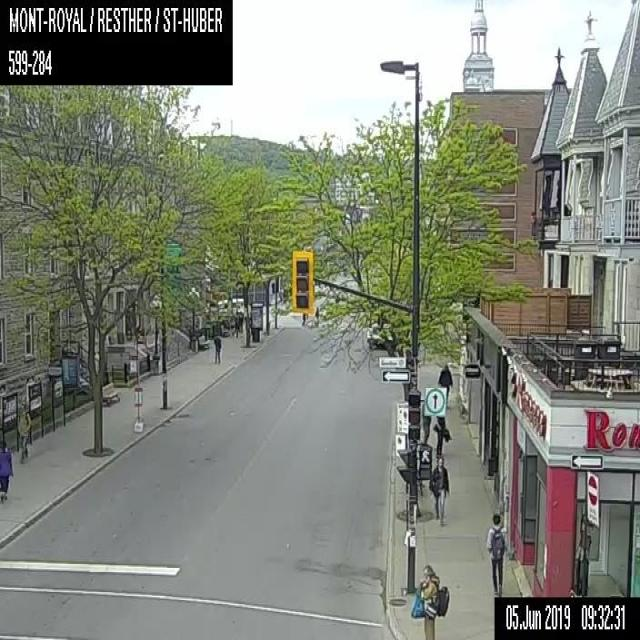pedestrian: (410, 562, 449, 638), (486, 512, 504, 596), (429, 458, 449, 522), (432, 413, 450, 458), (0, 442, 13, 502), (17, 404, 30, 463), (437, 361, 452, 407), (213, 334, 220, 362), (230, 318, 235, 338), (234, 318, 238, 337), (301, 312, 305, 325), (314, 306, 318, 318)
vehicle: (366, 322, 392, 348)
